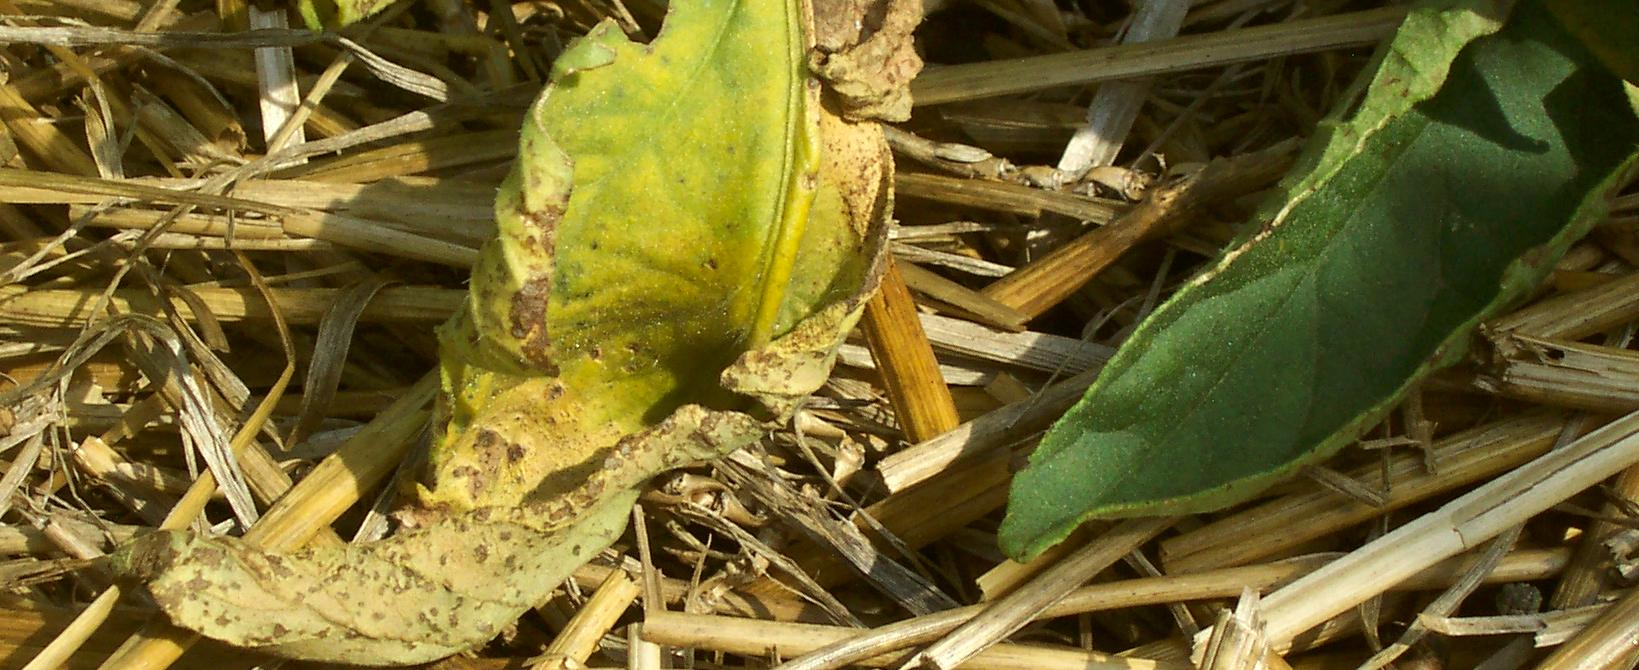Tomato Early blight leaf: (155, 0, 991, 659)
